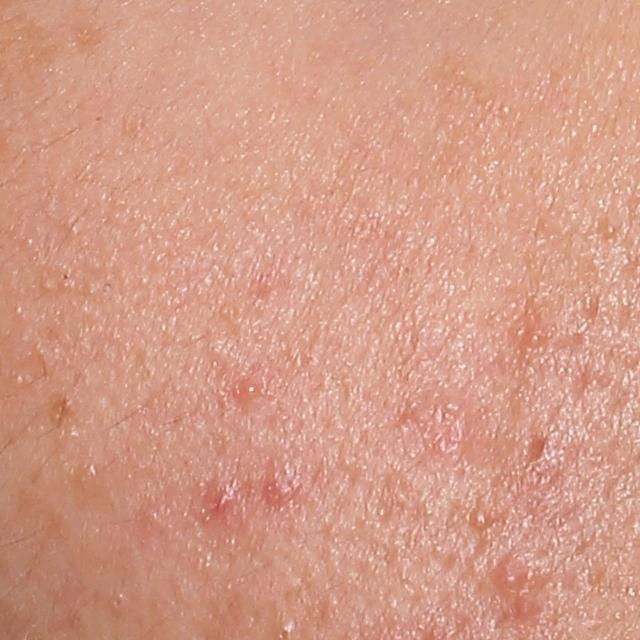atrophic_scar: (524, 431, 547, 464)
papule: (492, 556, 530, 593), (208, 482, 239, 517), (235, 373, 267, 405), (266, 474, 294, 506)
